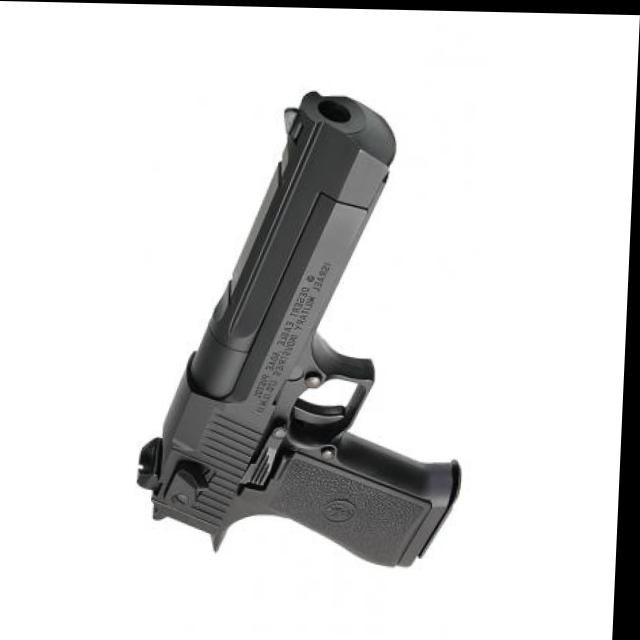handgun: (133, 86, 480, 575)
